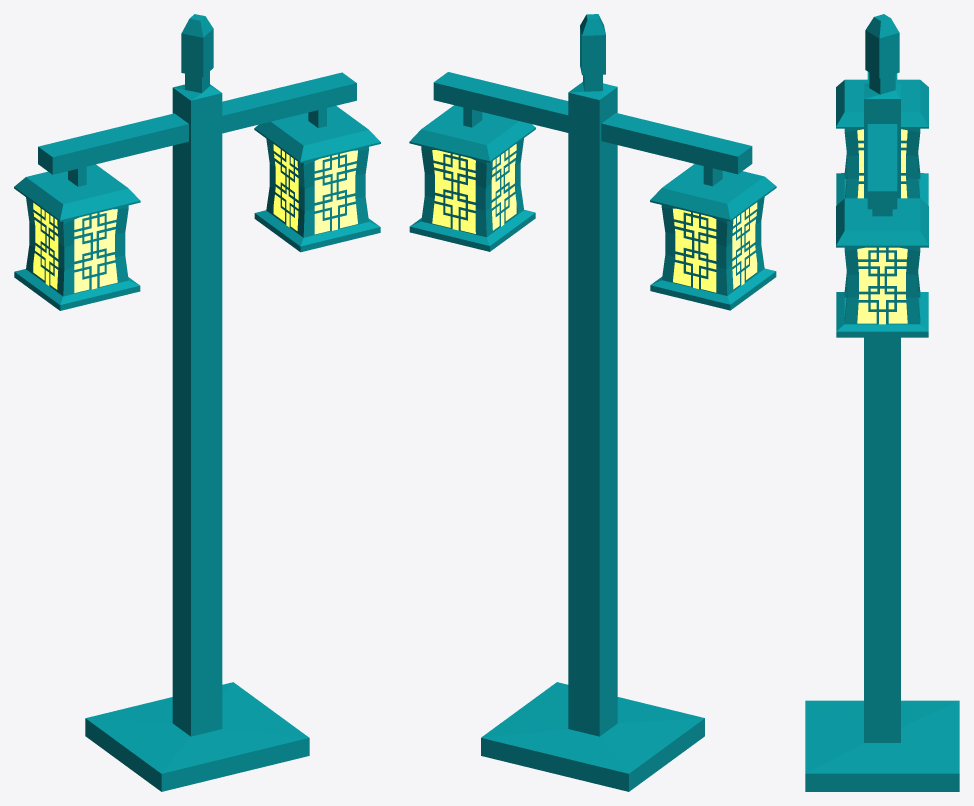
File: Decor1.fbx
The picture shows the model from 3 angles, left to right: view 1: azimuth 30°, elevation 25°; view 2: azimuth 150°, elevation 25°; view 3: azimuth 270°, elevation 25°; orthographic projection.
Visible parts, largest first — view 1: Cube.137; view 2: Cube.137; view 3: Cube.137.
Boxes of the visible parts, bbox=[...] form: Cube.137: bbox=[14, 14, 380, 791]; Cube.137: bbox=[409, 14, 776, 791]; Cube.137: bbox=[805, 14, 959, 791].
Size of the model in its own units: 245 by 533 by 101.
